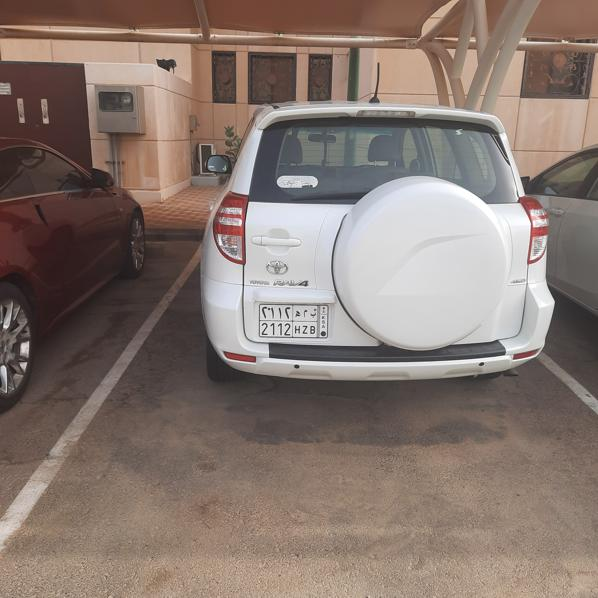numberplate: (257, 303, 329, 338)
